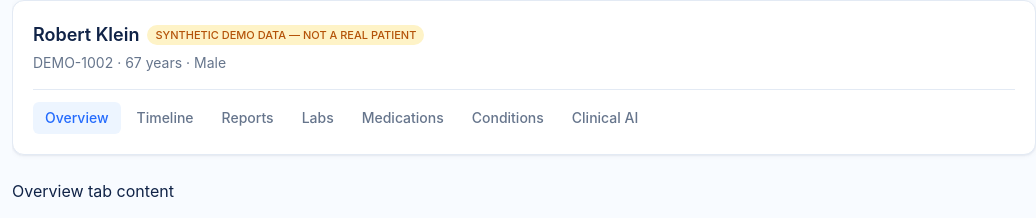
Test case: PatientWorkspace › switches tab content on navigation without losing the patient header
Expected: the text "Overview tab content" is shown, [12,181,174,201]
Click the link "Timeline".
click(165, 118)  # box [136,109,194,126]
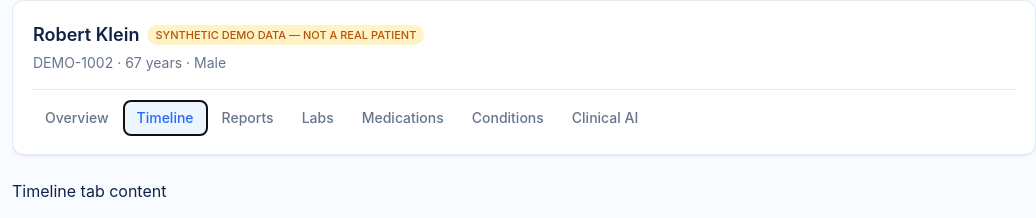
Expected: the heading "Robert Klein" is shown, [33,21,140,49]
Result: the text "Timeline tab content" is shown at [12,181,166,201]
